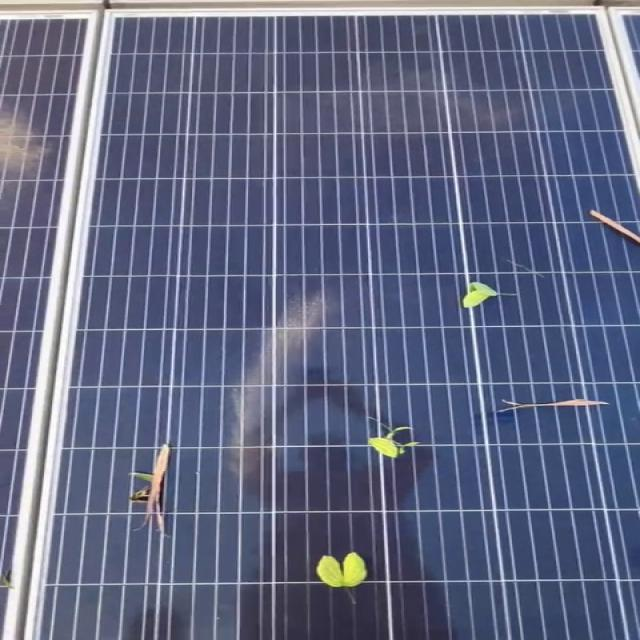dust_partical: (200, 284, 350, 496), (180, 70, 564, 136), (2, 66, 66, 222)
old_leaf: (115, 423, 189, 553), (332, 403, 430, 464), (568, 204, 640, 257), (306, 550, 372, 605), (446, 278, 528, 318), (484, 395, 635, 416), (0, 563, 19, 592)
